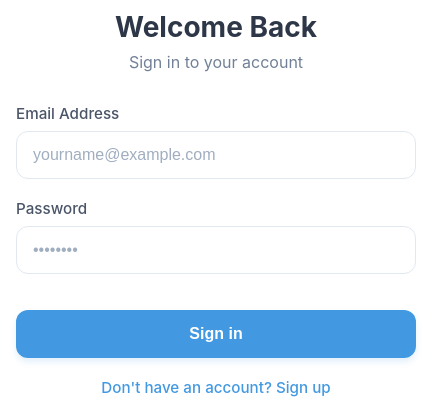
Test: Login Component › testing whether clicking the sign in button will lead to button-disabled
Type "test@gmail.com" into the field with placeholder "yourname@example.com". click: {"x": 216, "y": 155}
box: [16,131,416,179]
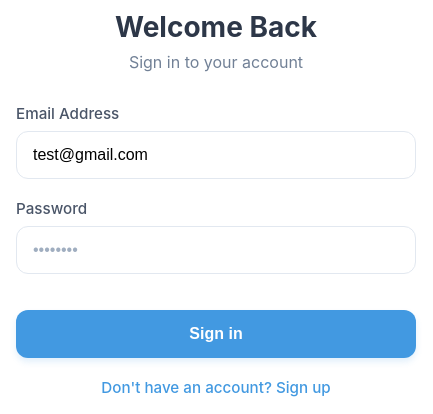
Type "123456" into the password field with placeholder "••••••••". click: {"x": 216, "y": 250}
box: [16,226,416,274]
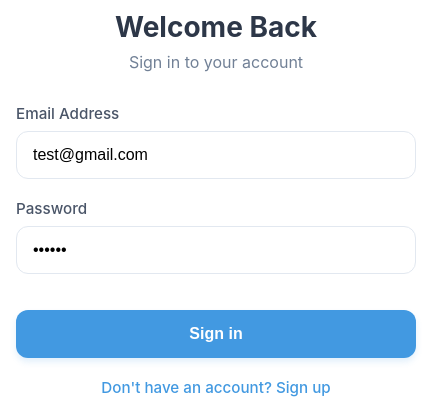
Click the button "Sign in". click: {"x": 216, "y": 334}
box: [16,310,416,358]
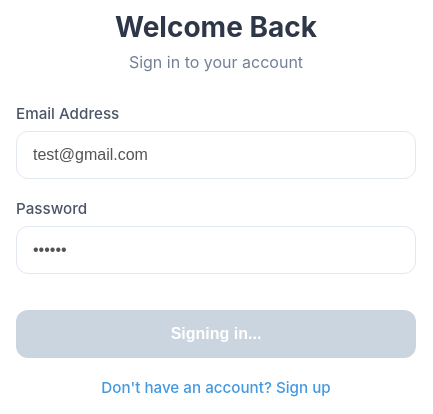
Check: the button named "sign in" is disabled, box [16,310,416,358]
